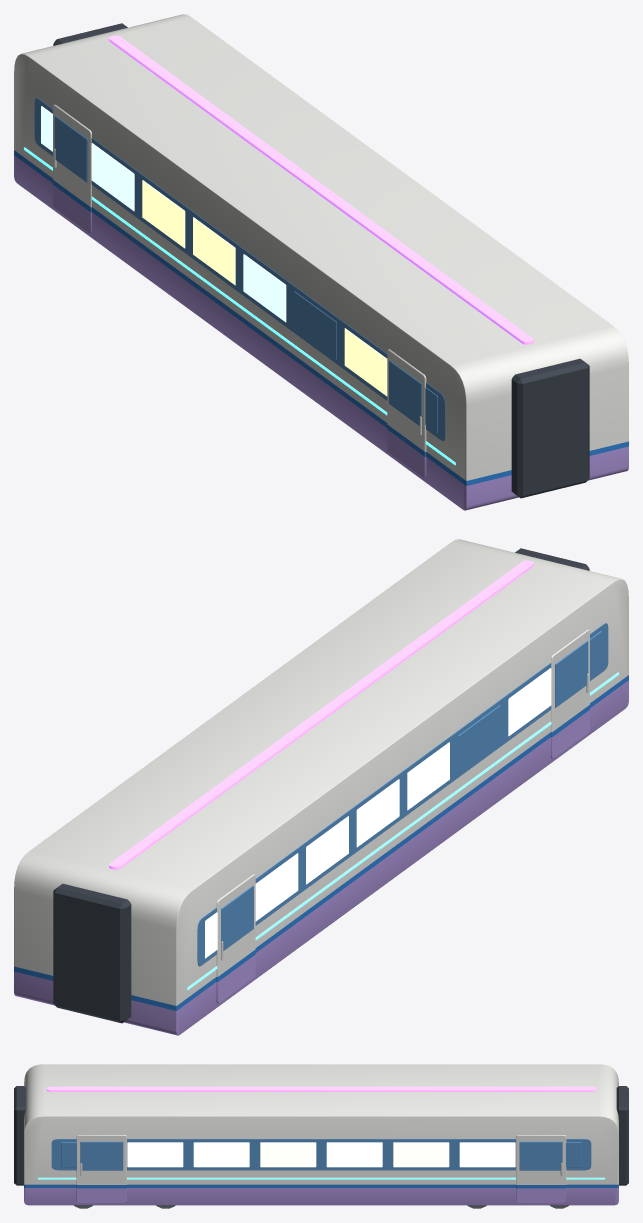
The model's file is trem_tubo_vagao.glb.
3 views of the same model, one above another, from view 1: azimuth 30°, elevation 25°; view 2: azimuth 150°, elevation 25°; view 3: azimuth 270°, elevation 25° (orthographic). The views are drawn at different scales.
Visible parts, largest first — view 1: trem_tubo_vagao, porta_correr_1, porta_correr_2; view 2: trem_tubo_vagao, porta_correr_2, porta_correr_1; view 3: trem_tubo_vagao, porta_correr_3, porta_correr_4.
Part boxes in pixels (<box>): trem_tubo_vagao: <box>14,14,628,510</box>; porta_correr_1: <box>387,349,426,478</box>; porta_correr_2: <box>53,104,91,233</box>; trem_tubo_vagao: <box>14,539,628,1035</box>; porta_correr_2: <box>216,874,255,1003</box>; porta_correr_1: <box>551,629,589,758</box>; trem_tubo_vagao: <box>14,1064,628,1205</box>; porta_correr_3: <box>76,1135,126,1202</box>; porta_correr_4: <box>516,1135,566,1202</box>.
Size of the model in its own units: 2.79 by 2.52 by 13.44.
6 materials, 1 textured.
